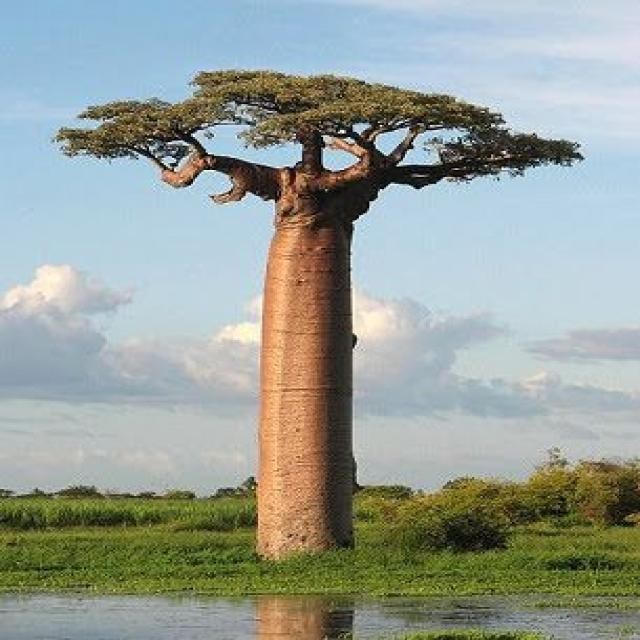baobab: (41, 66, 584, 563)
